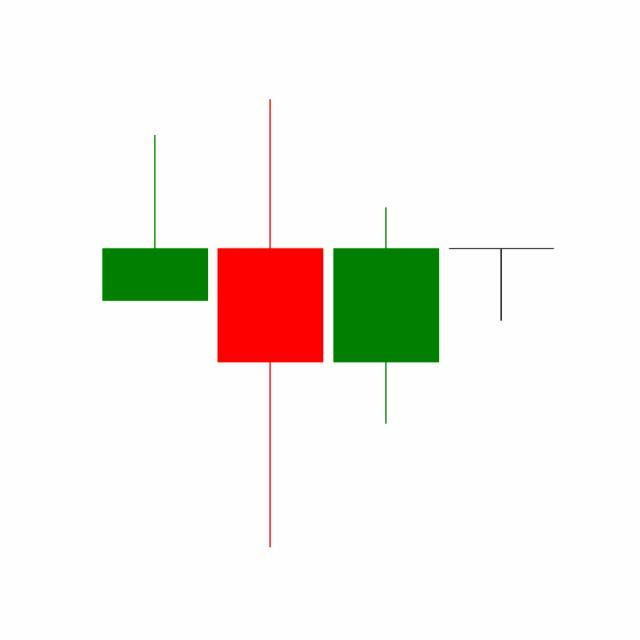Hanging Man: (444, 248, 560, 323)
